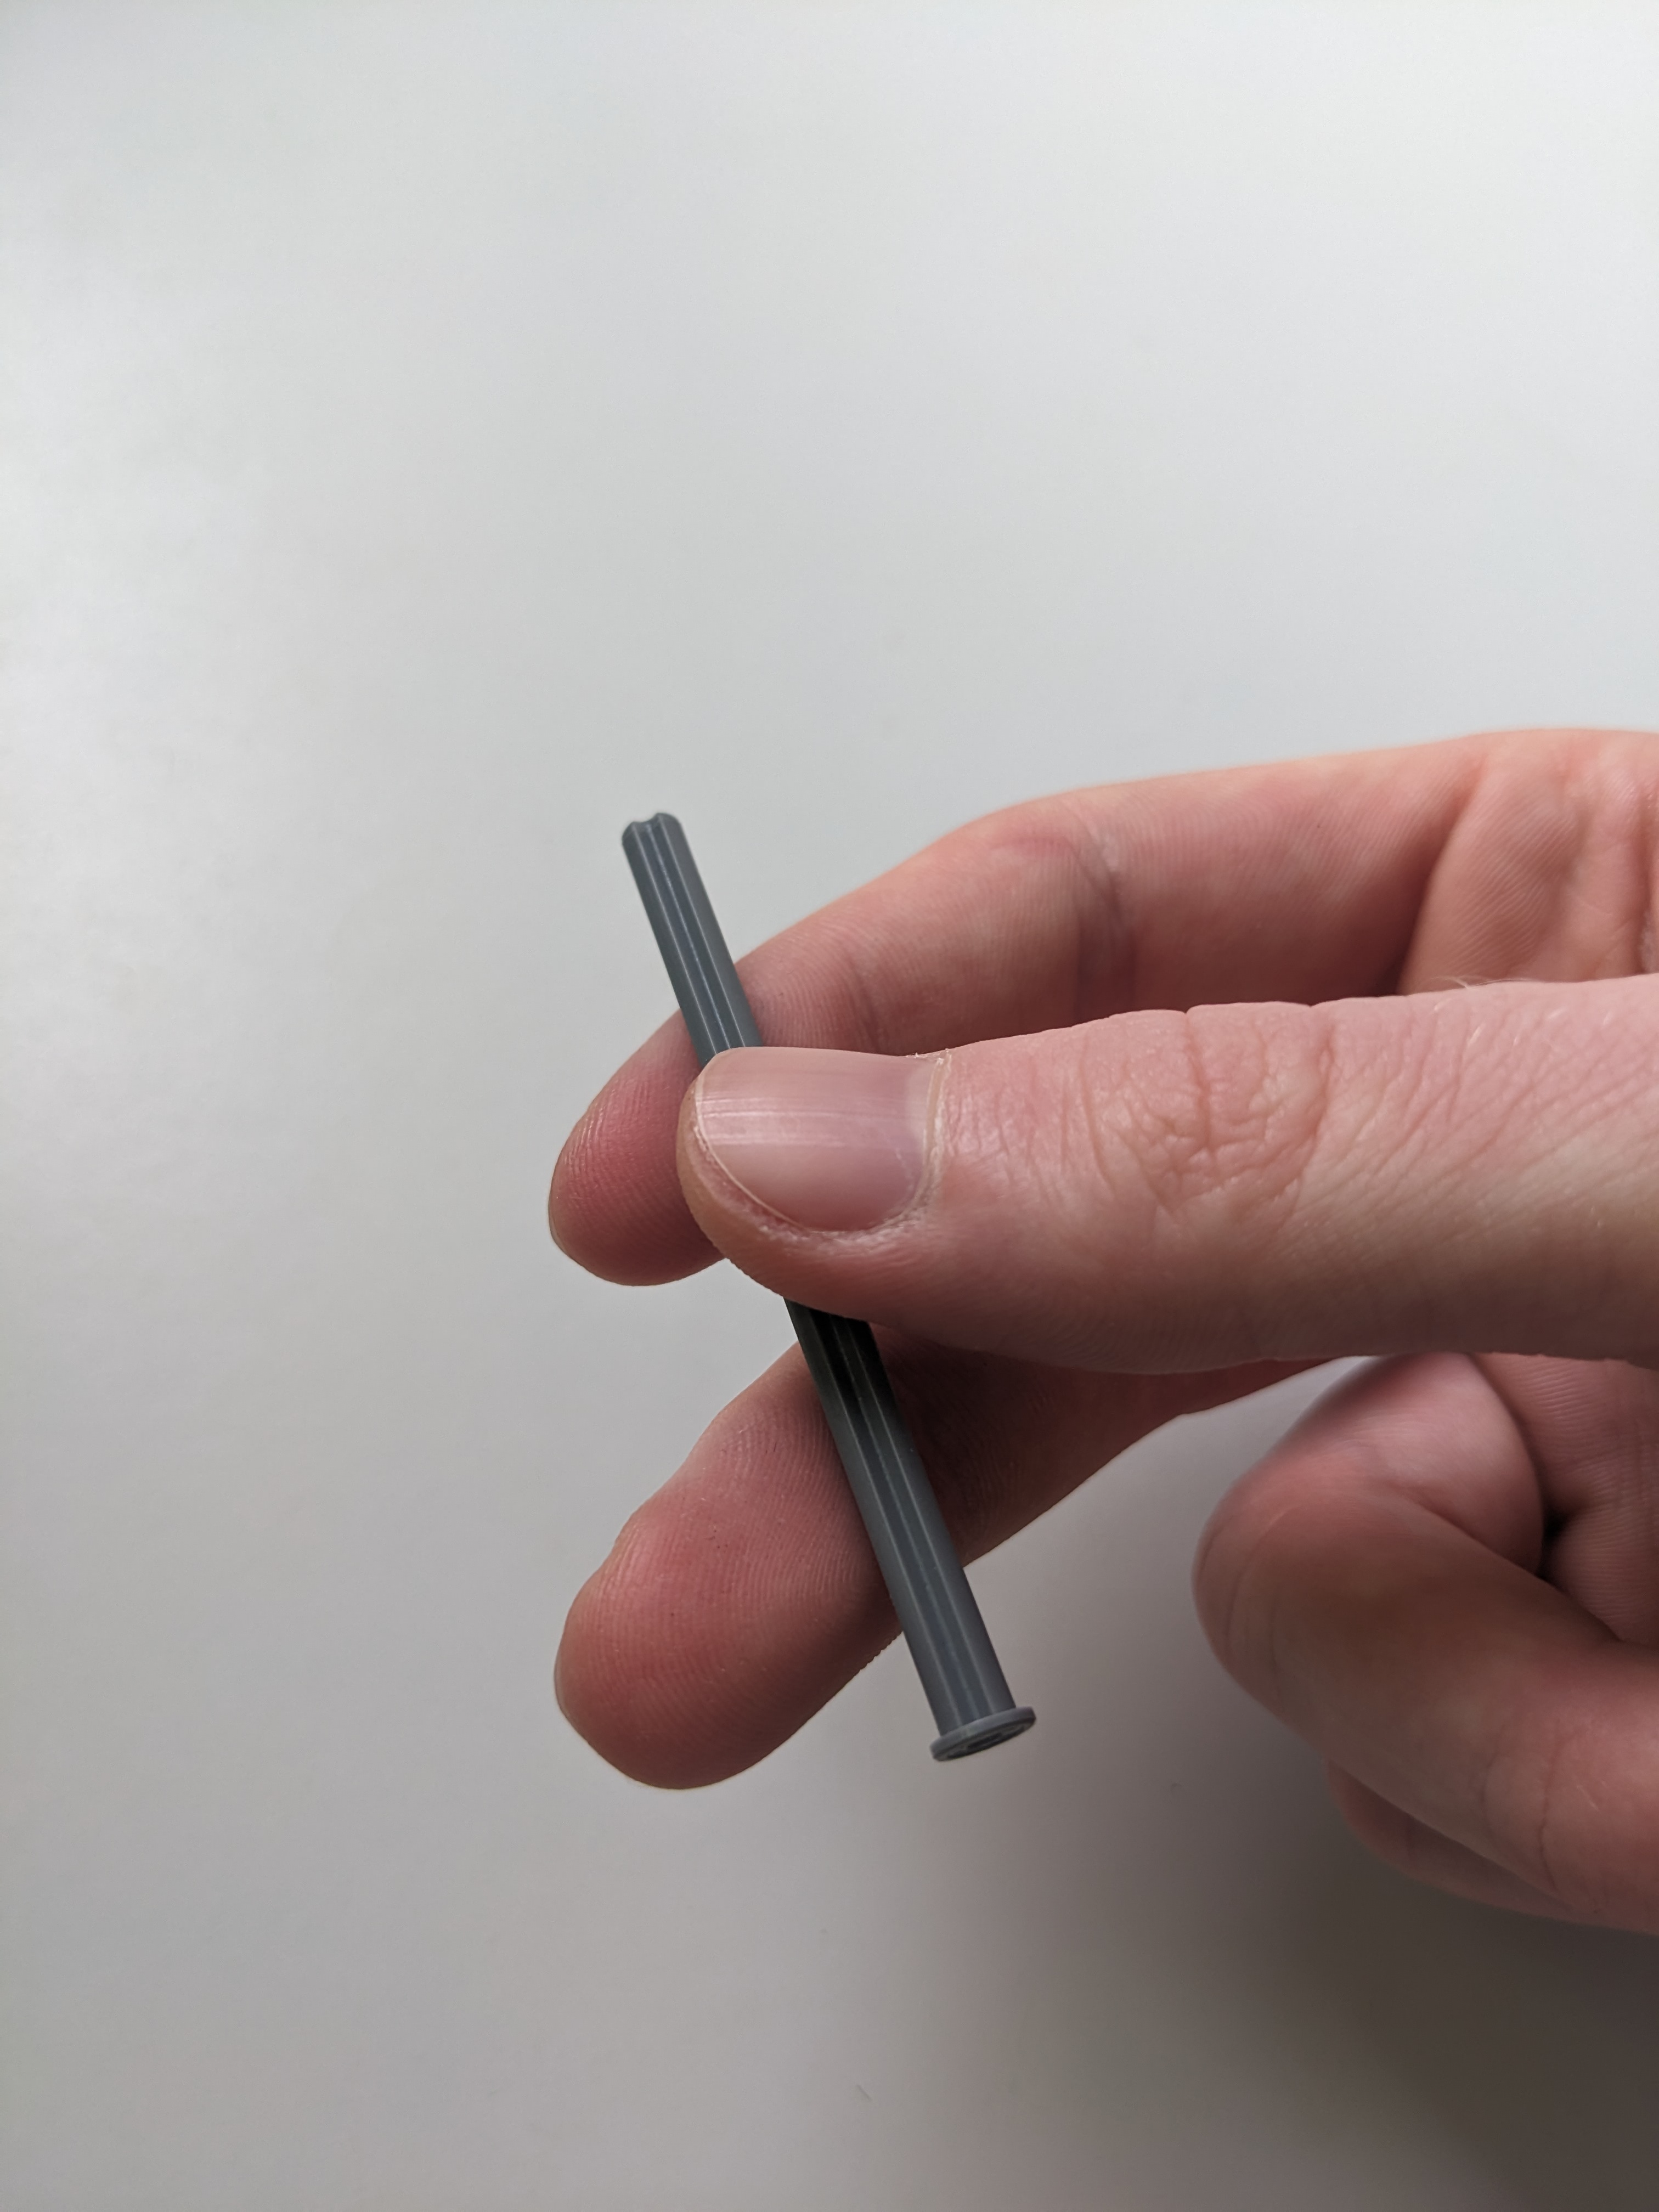Grau_lang: (610, 784, 1086, 1777)
